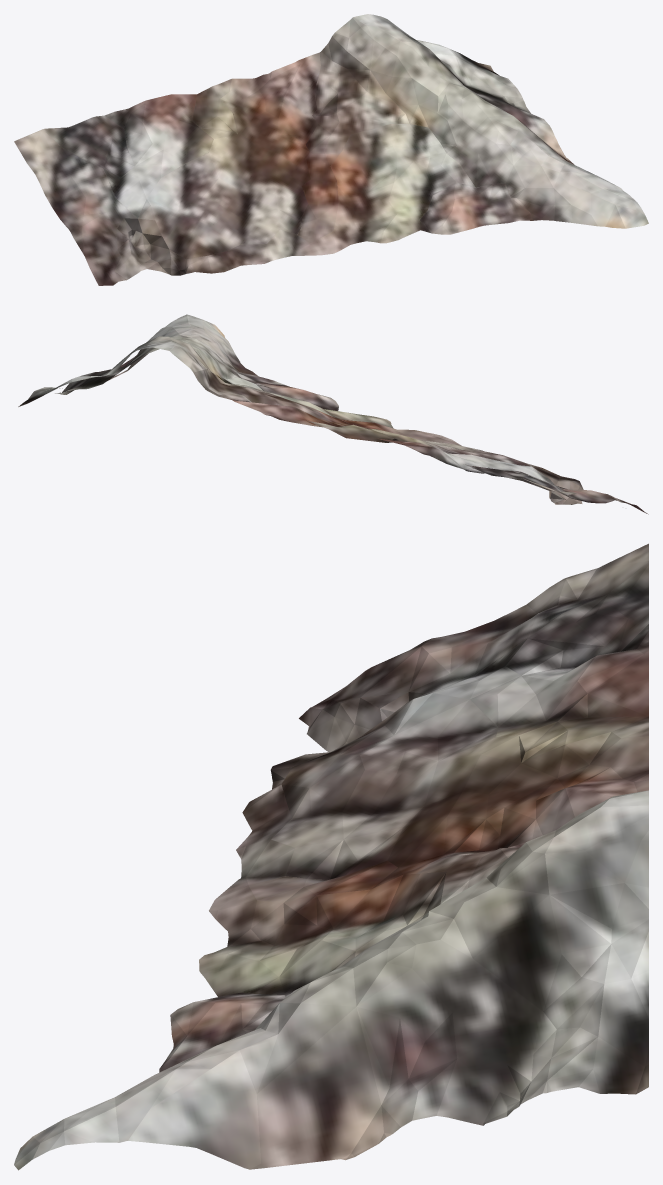
The picture shows the model from 3 angles, top to bottom: view 1: azimuth 30°, elevation 25°; view 2: azimuth 150°, elevation 25°; view 3: azimuth 270°, elevation 25°; orthographic projection. The views are drawn at different scales.
Size of the model in its own units: 1.67 by 0.4162 by 0.9707.
1 material, 1 textured.
